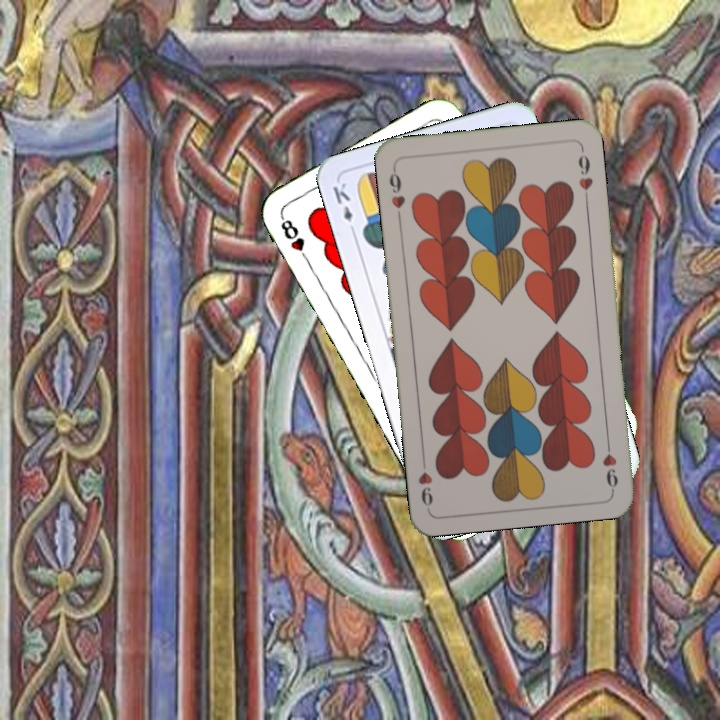EK: (328, 178, 359, 237)
H8: (276, 212, 313, 266)
H9: (385, 163, 408, 222), (598, 433, 621, 492)
